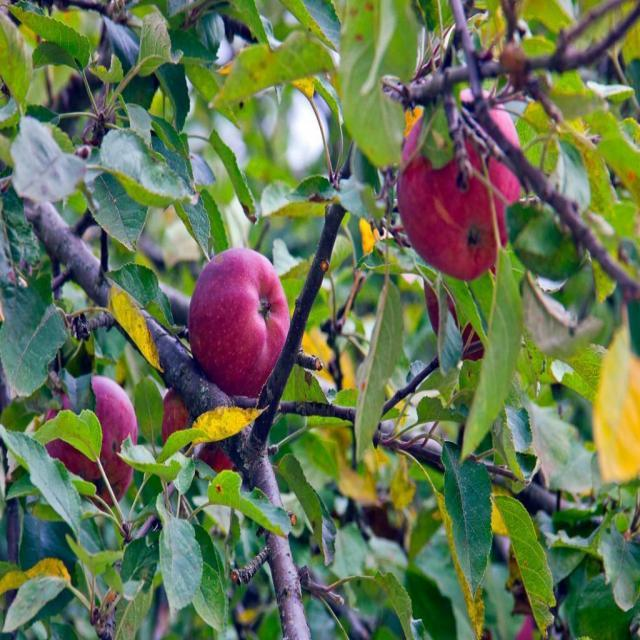Red Apple: (411, 95, 521, 274), (196, 240, 289, 394), (67, 380, 132, 505), (168, 392, 223, 473)
